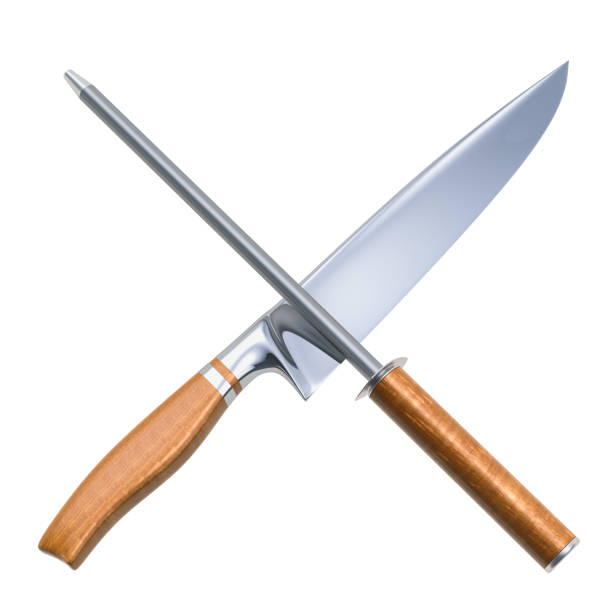knife: (32, 50, 575, 575)
